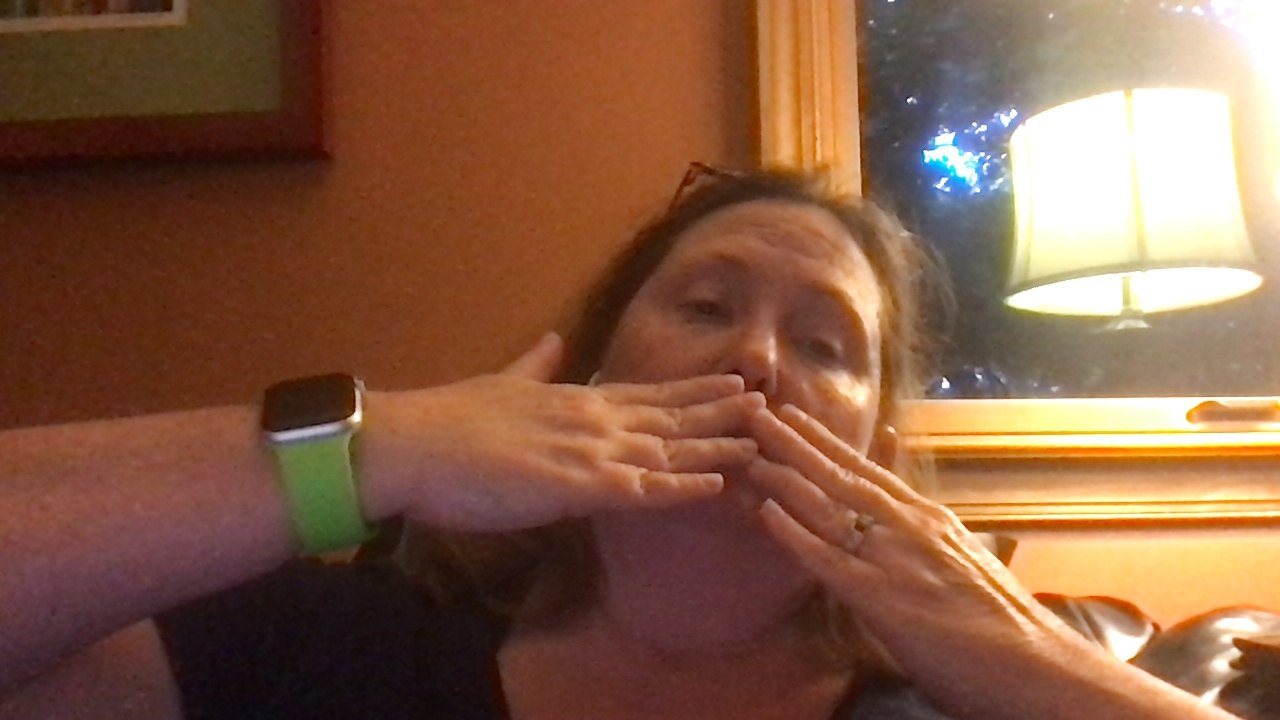thankyou: (400, 331, 1038, 680)
